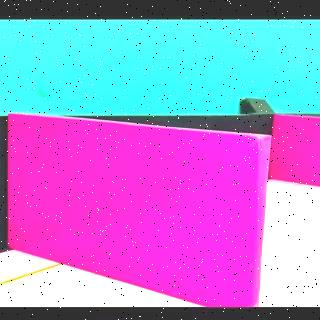xparking: (18, 143, 256, 302), (283, 122, 316, 184)
